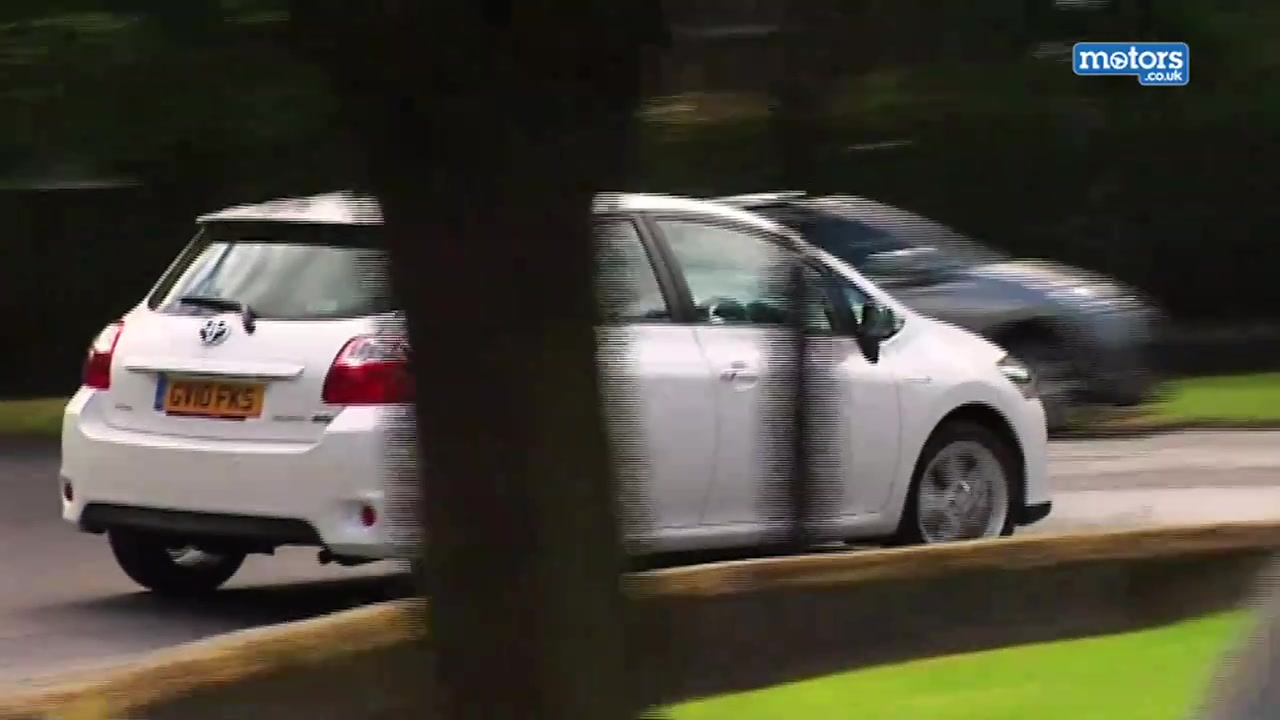car: (55, 193, 1057, 603), (690, 192, 1163, 411)
